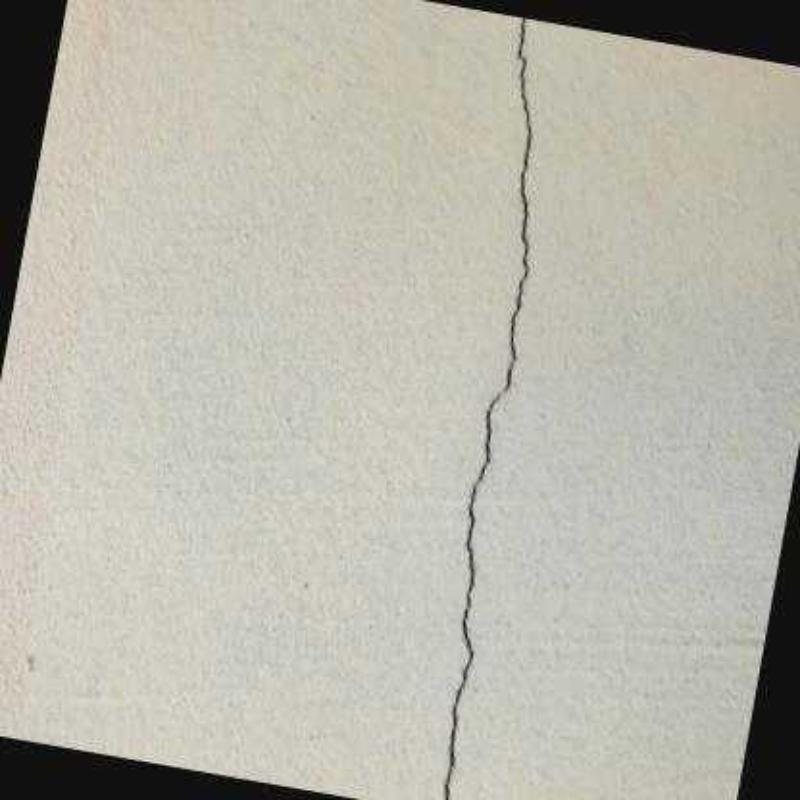pothole: (442, 15, 533, 798)
